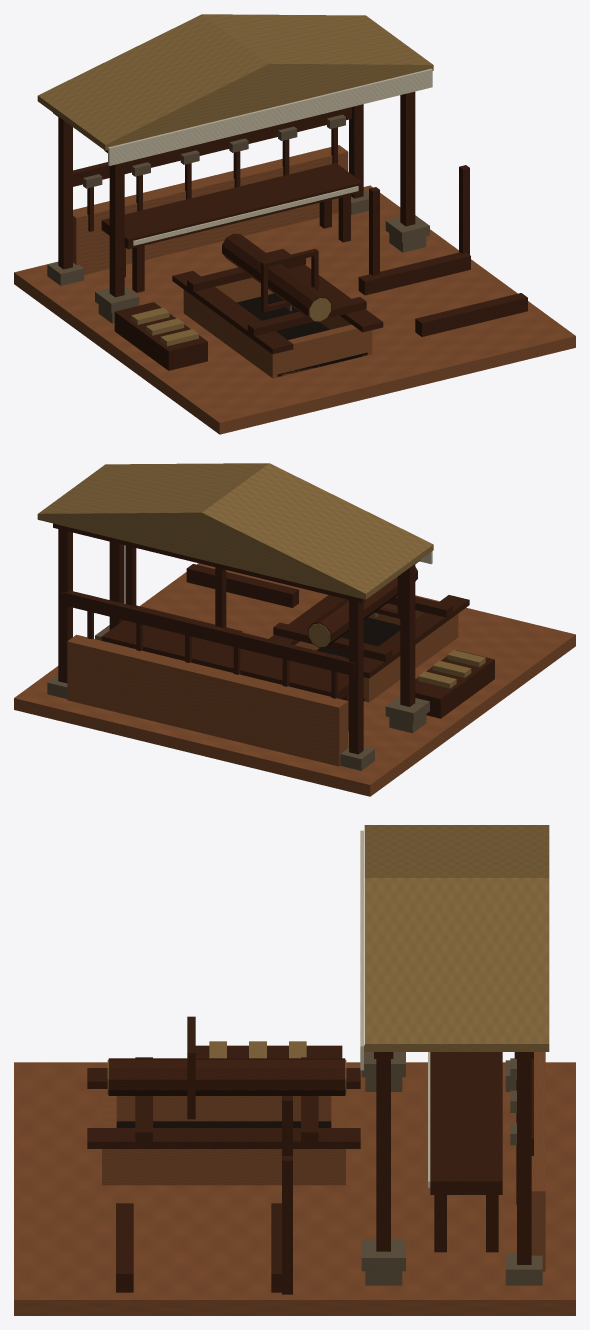
File: Berber_Lumber_Age2_ResourceEmpty.fbx
3 renders of one model, top to bottom at view 1: azimuth 30°, elevation 25°; view 2: azimuth 150°, elevation 25°; view 3: azimuth 270°, elevation 25°, orthographic. The views are drawn at different scales.
Parts seen in each view (by area): view 1: yard_foundation, covered_tool_roof, rear_low_masonry, tool_bench_top, owner_front_roof_valance, sawpit_work_log, offcut_sorting_bin, tool_rack_backrail, pit_end, pit_side, stack_dunnage, stack_dunnage.001 (+19 smaller); view 2: covered_tool_roof, yard_foundation, rear_low_masonry, tool_bench_top, tool_rack_backrail, offcut_sorting_bin, shelter_post.001, shelter_post, stack_dunnage, pit_side, shelter_post.003, pit_rim_plank (+11 smaller); view 3: yard_foundation, covered_tool_roof, tool_bench_top, sawpit_work_log, pit_side.001, pit_rim_plank.001, pit_side, shelter_post.003, shelter_post.002, rear_low_masonry, stack_dunnage, stack_retaining_post.001 (+13 smaller).
Boxes of the visible parts, x1,y1,x2,y2 form: yard_foundation: [14, 185, 575, 434]; covered_tool_roof: [37, 14, 433, 150]; rear_low_masonry: [73, 145, 348, 274]; tool_bench_top: [101, 163, 362, 249]; owner_front_roof_valance: [108, 68, 432, 165]; sawpit_work_log: [222, 233, 331, 322]; offcut_sorting_bin: [114, 302, 207, 370]; tool_rack_backrail: [73, 107, 351, 186]; pit_end: [282, 324, 362, 375]; pit_side: [183, 289, 282, 378]; stack_dunnage: [415, 293, 527, 336]; stack_dunnage.001: [358, 252, 470, 295]; covered_tool_roof: [37, 463, 433, 599]; yard_foundation: [14, 563, 575, 796]; rear_low_masonry: [67, 634, 348, 766]; tool_bench_top: [101, 620, 348, 699]; tool_rack_backrail: [61, 590, 354, 675]; offcut_sorting_bin: [415, 650, 494, 718]; shelter_post.001: [349, 600, 363, 754]; shelter_post: [400, 564, 415, 706]; stack_dunnage: [186, 564, 298, 607]; pit_side: [363, 614, 458, 702]; shelter_post.003: [58, 529, 72, 683]; pit_rim_plank: [363, 595, 469, 678]; yard_foundation: [14, 1062, 575, 1315]; covered_tool_roof: [364, 825, 549, 1051]; tool_bench_top: [430, 1052, 502, 1194]; sawpit_work_log: [108, 1058, 345, 1095]; pit_side.001: [102, 1149, 345, 1185]; pit_rim_plank.001: [87, 1128, 360, 1148]; pit_side: [116, 1096, 331, 1121]; shelter_post.003: [517, 1059, 531, 1264]; shelter_post.002: [376, 1059, 390, 1251]; rear_low_masonry: [531, 1052, 545, 1271]; stack_dunnage: [116, 1203, 133, 1292]; stack_retaining_post.001: [282, 1156, 292, 1294].
Size of the model in its own units: 380 by 238 by 380.
6 materials, 6 textured.
